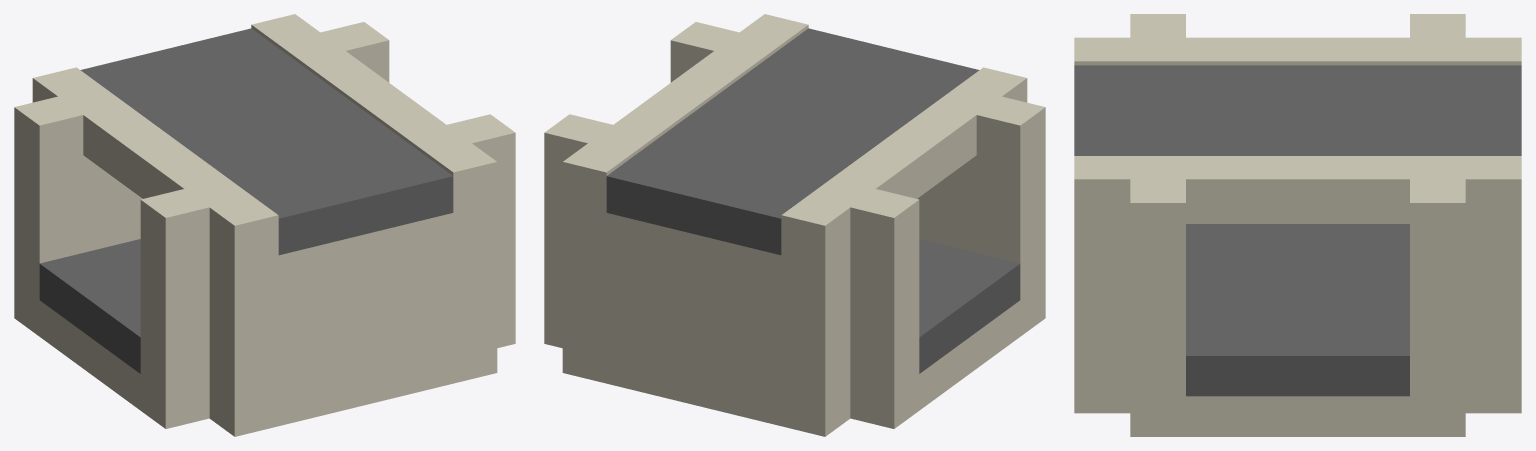
The model's file is roadTile_210.obj.
3 views of the same model, side by side, from view 1: azimuth 30°, elevation 25°; view 2: azimuth 150°, elevation 25°; view 3: azimuth 270°, elevation 25° (orthographic). The views are drawn at different scales.
Parts seen in each view (by area): view 1: Mesh1_Group1_Model.209; view 2: Mesh1_Group1_Model.209; view 3: Mesh1_Group1_Model.209.
Boxes of the visible parts, x1,y1,x2,y2 form: Mesh1_Group1_Model.209: (14, 14, 515, 436); Mesh1_Group1_Model.209: (544, 14, 1045, 436); Mesh1_Group1_Model.209: (1074, 14, 1521, 436).
Size of the model in its own units: 3 by 1.73 by 3.
